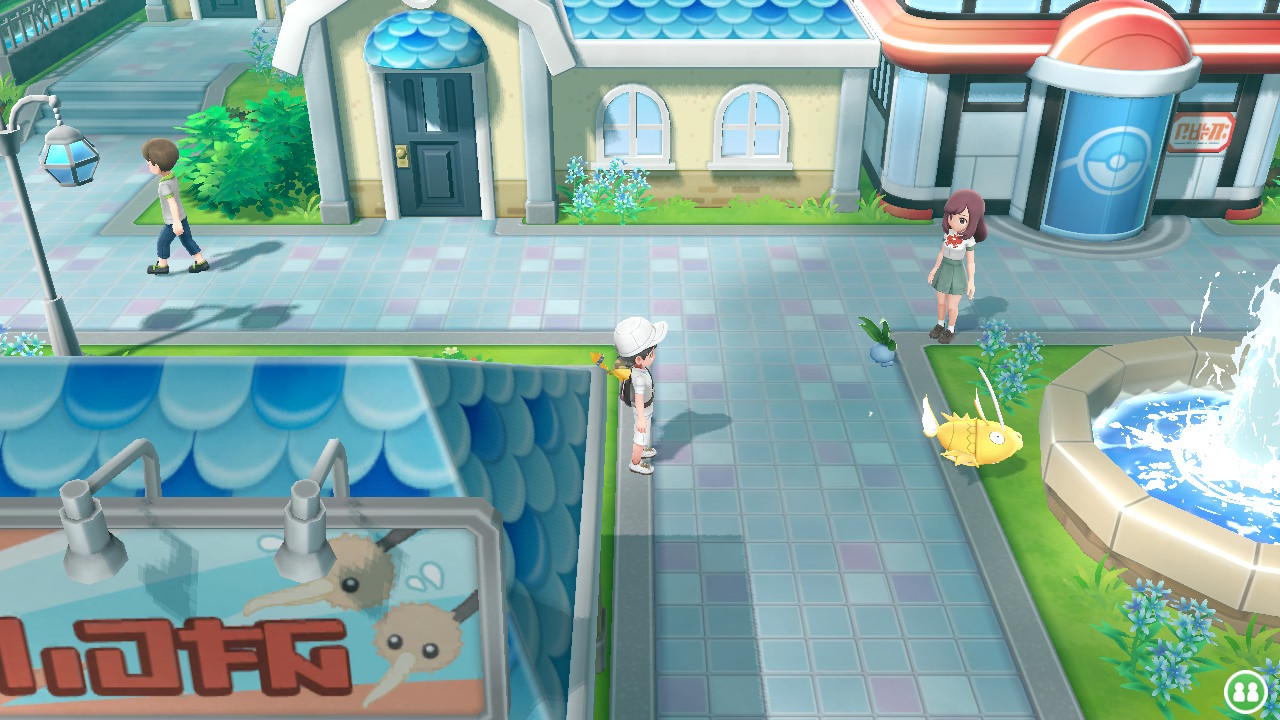Golden: (902, 389, 1031, 480)
